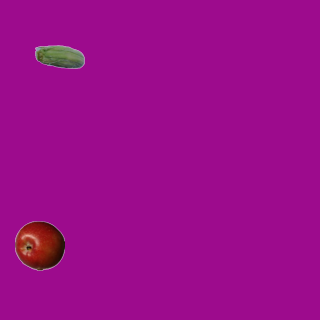Apple Braeburn: (14, 220, 64, 270)
Corn Husk: (34, 33, 84, 83)
